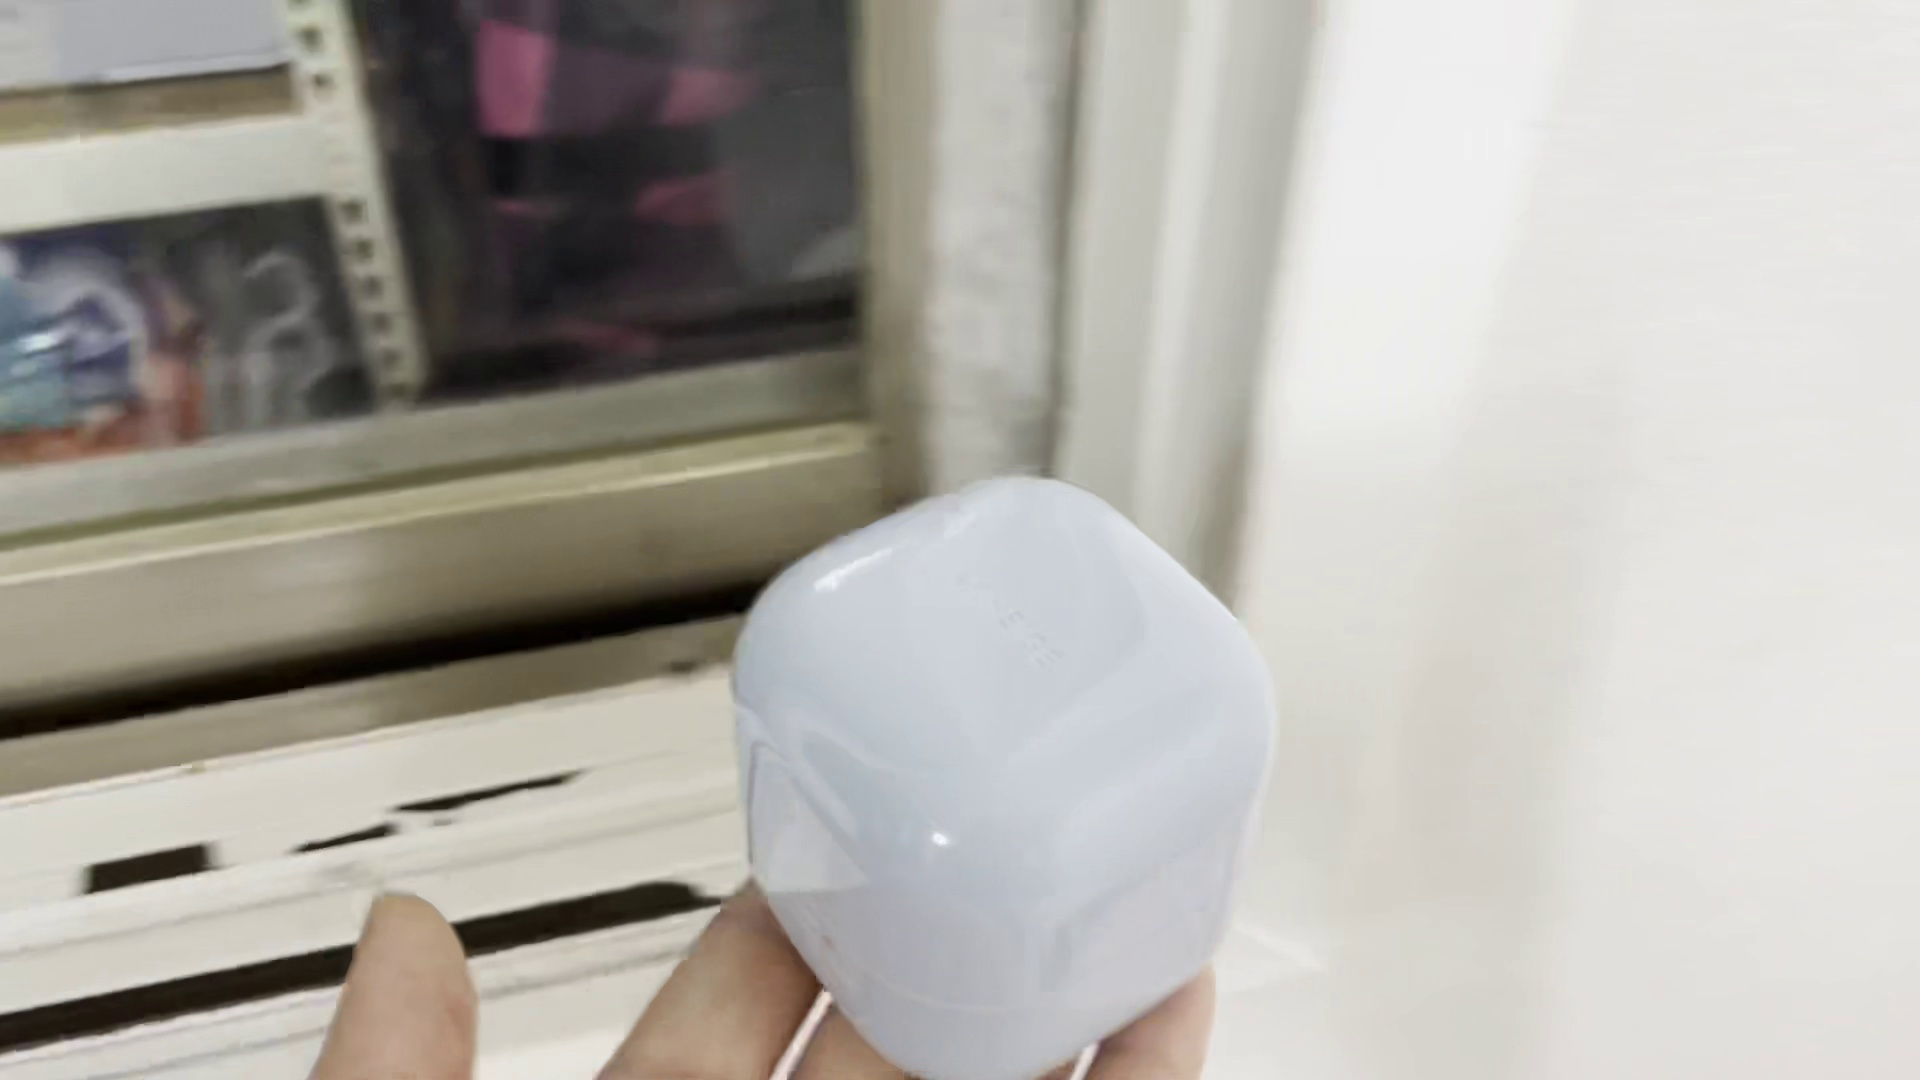cream: (731, 476, 1279, 1080)
